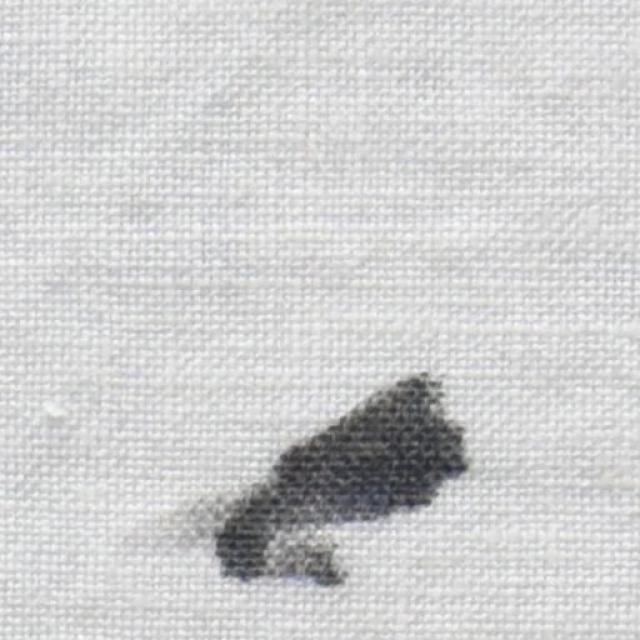Knot: (43, 401, 66, 420)
Stain: (216, 374, 469, 586)
